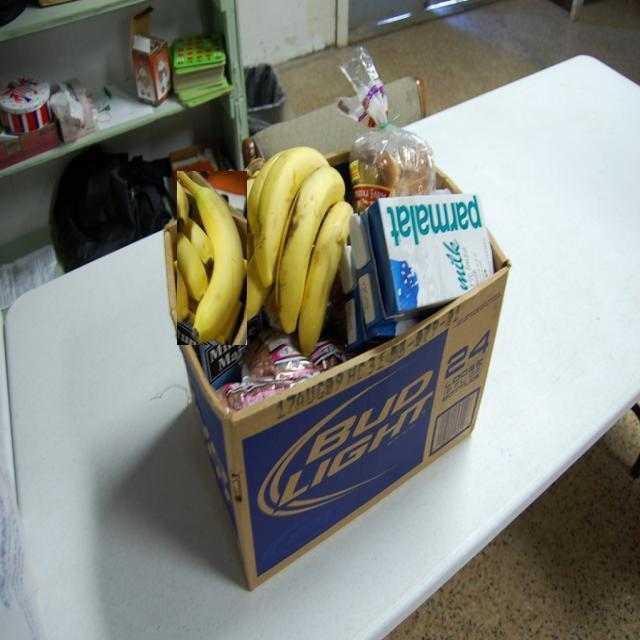Banana: (247, 147, 355, 354), (177, 171, 247, 345)
